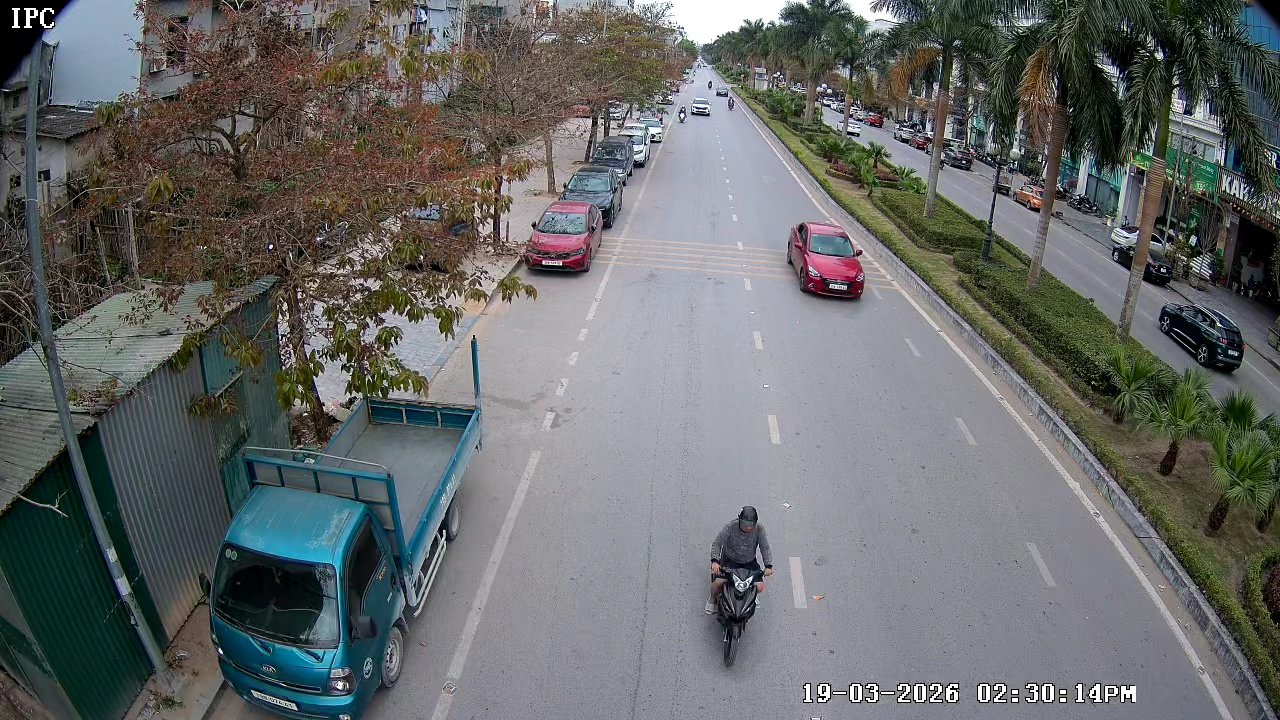car: (787, 221, 866, 301), (524, 199, 600, 276), (561, 168, 621, 227), (692, 97, 713, 118)
motorbike: (705, 501, 774, 667), (679, 108, 687, 125)
